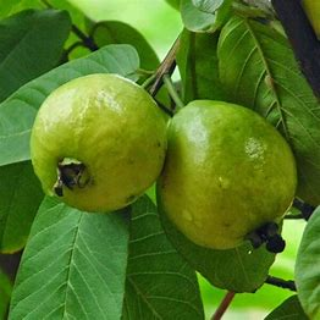oi: (161, 99, 299, 259), (34, 71, 163, 211)
